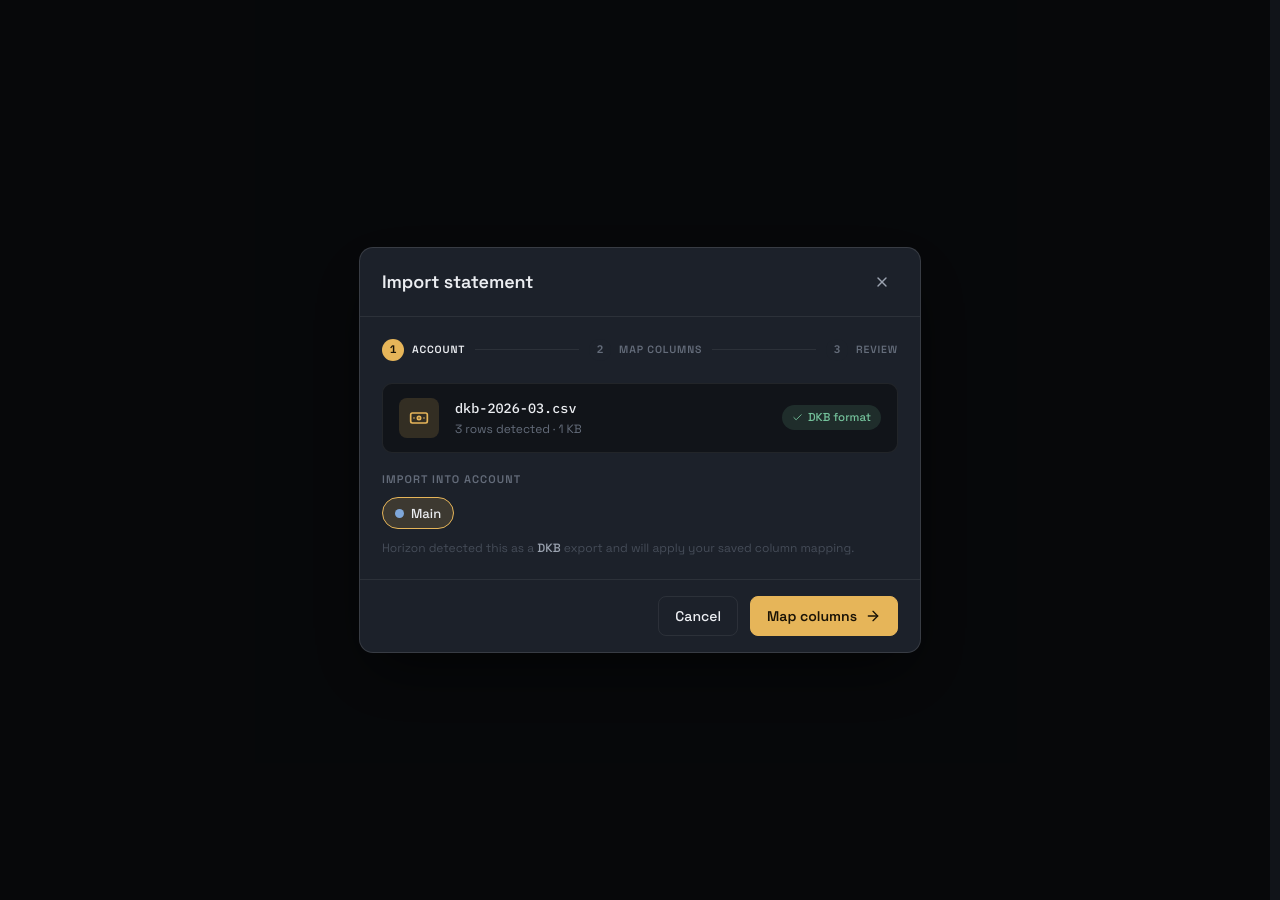
Test: ImportWizard — Learned chip (#258) › shows Learned beside the picker on a learned row, and no chip on an unmatched row
The width and height of the screenshot is (1280, 900).
Click the button "Map columns" at (824, 616), box [750,596,898,636]
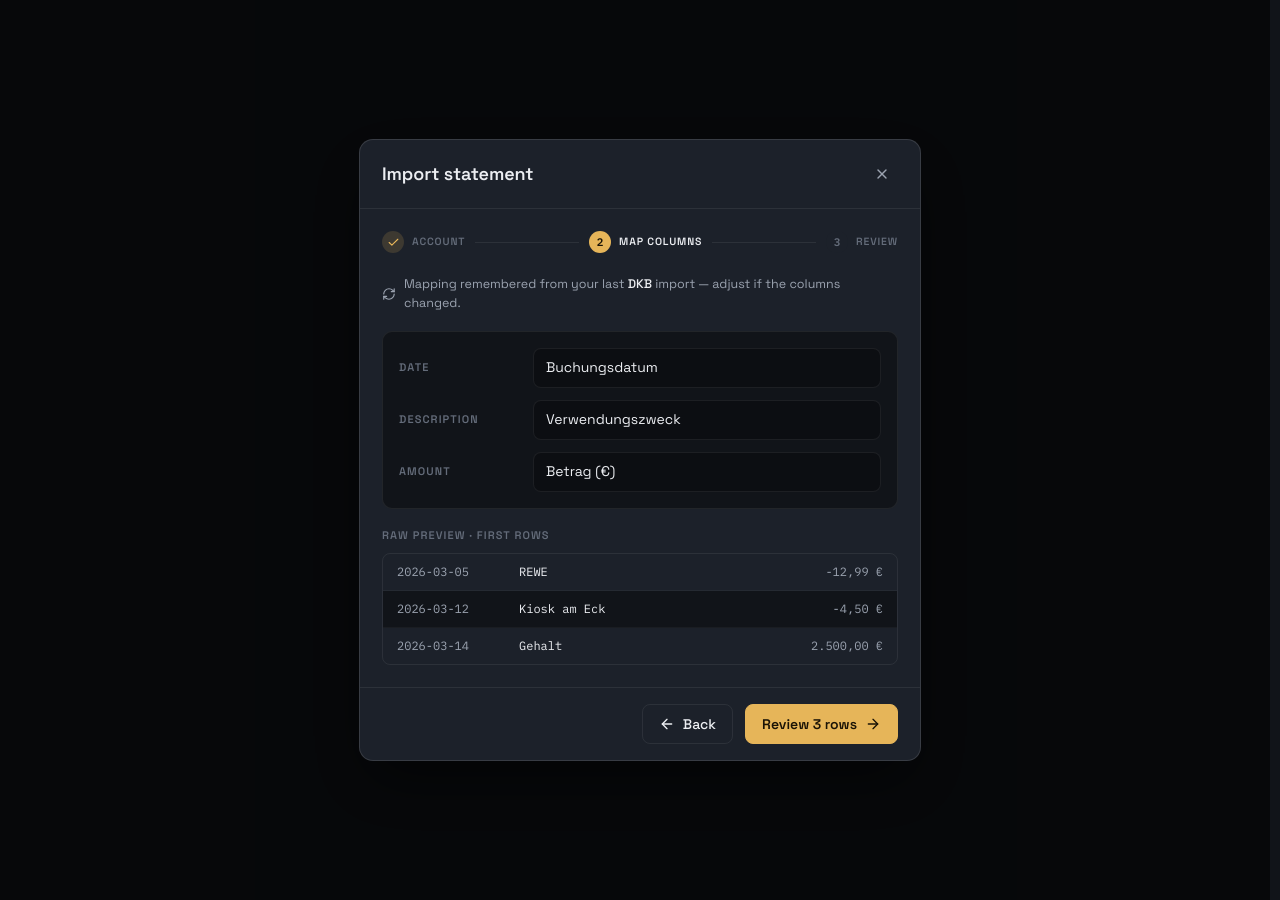
Click the button "Review 3 rows" at (822, 724), box [745,704,898,744]
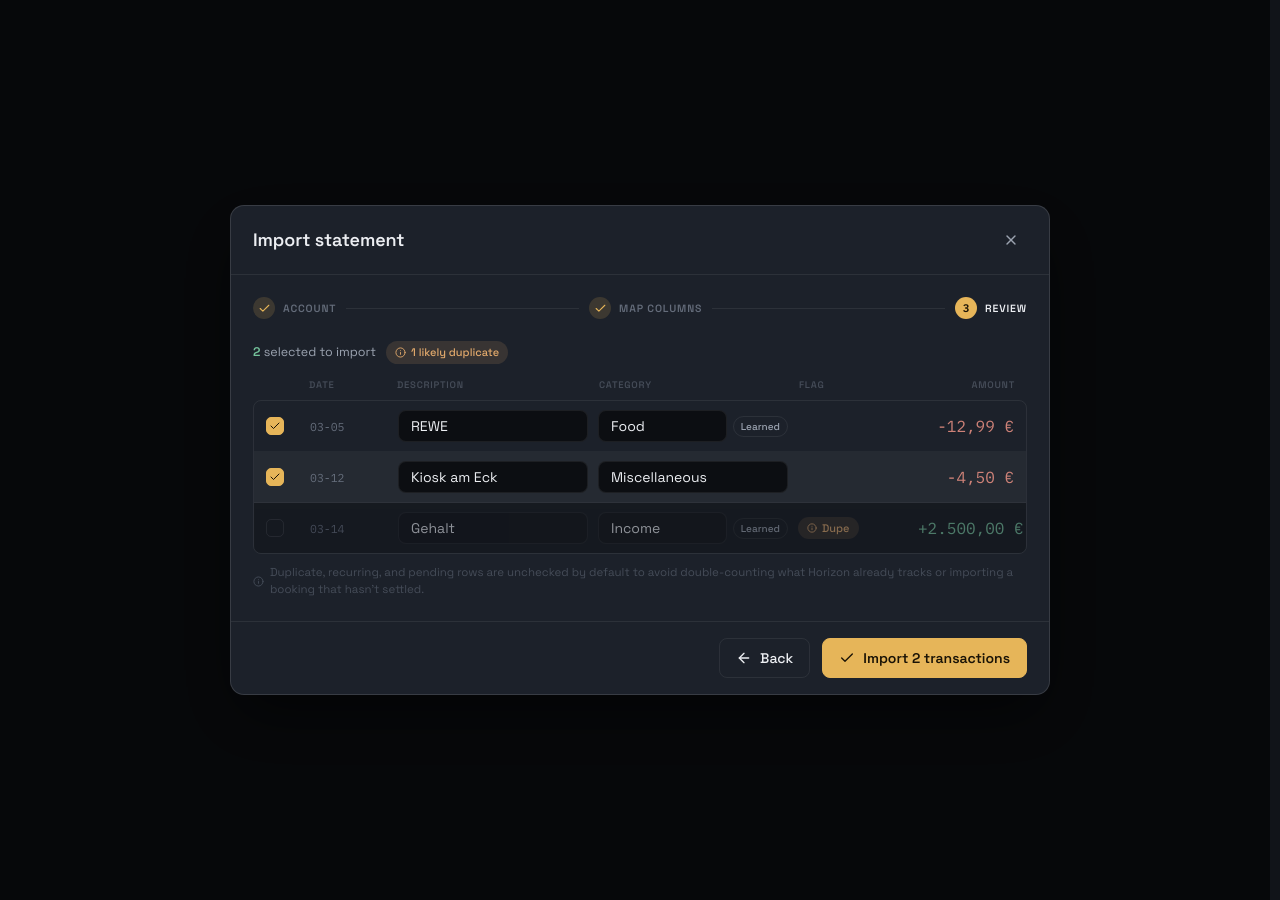
Expected: the dropdown named "category" in the row of "-12,99 €" is enabled, [598,410,727,442]
Expected: the dropdown named "category" next to "-4,50 €" is enabled, [598,461,788,493]
Expected: the dropdown named "category" in the row of "Dupe" is enabled, [598,512,727,544]
